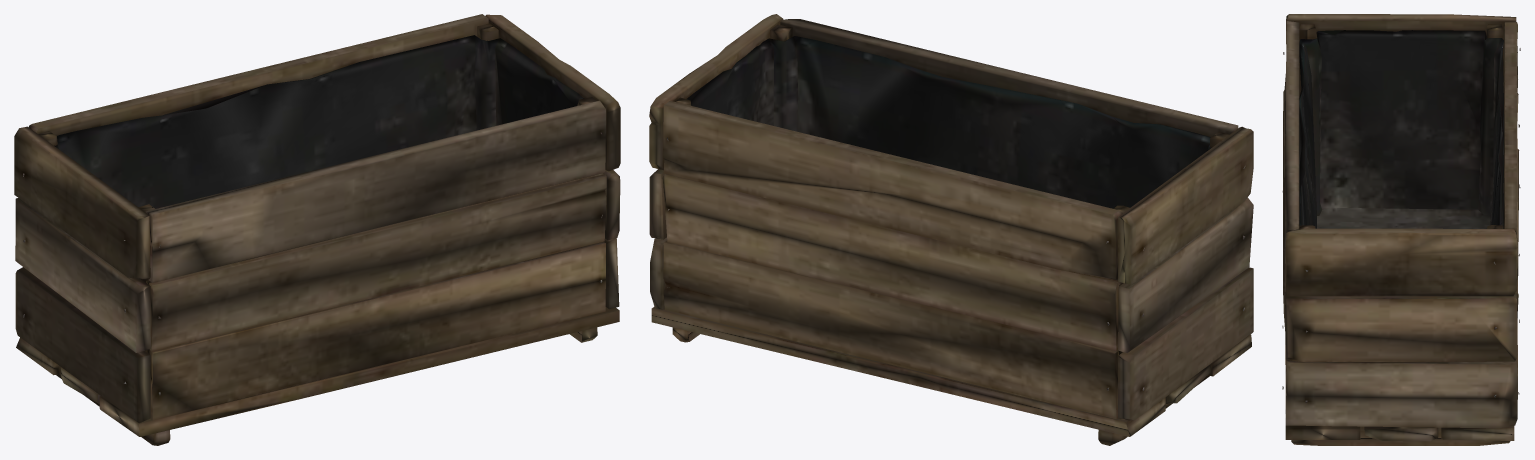
Rendered from planter.glb.
The picture shows the model from 3 angles, left to right: view 1: azimuth 30°, elevation 25°; view 2: azimuth 150°, elevation 25°; view 3: azimuth 270°, elevation 25°; orthographic projection. The views are drawn at different scales.
Parts seen in each view (by area): view 1: planter_box_01; view 2: planter_box_01; view 3: planter_box_01.
Part boxes in pixels (box(x1,y1,x2,y2)): planter_box_01: box(14, 14, 620, 445); planter_box_01: box(649, 14, 1253, 445); planter_box_01: box(1282, 14, 1520, 445).
Size of the model in its own units: 0.9019 by 0.42 by 0.4086.
1 material, 1 textured.
